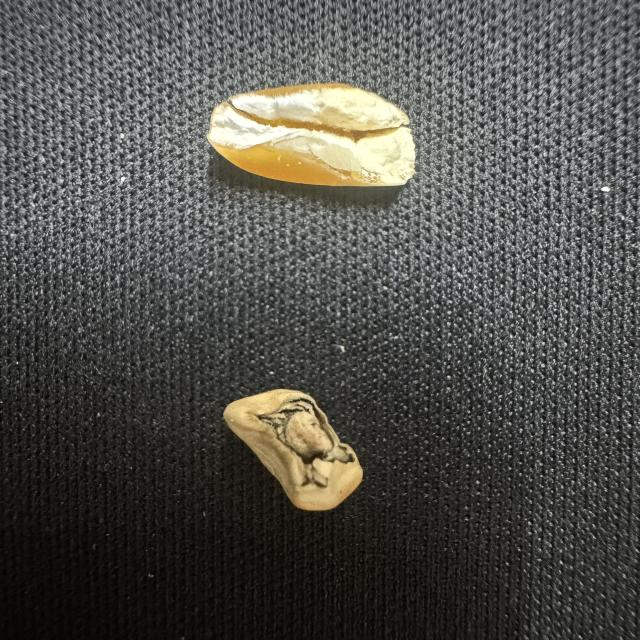Bad-Seed: (202, 79, 423, 192), (216, 381, 368, 516)
